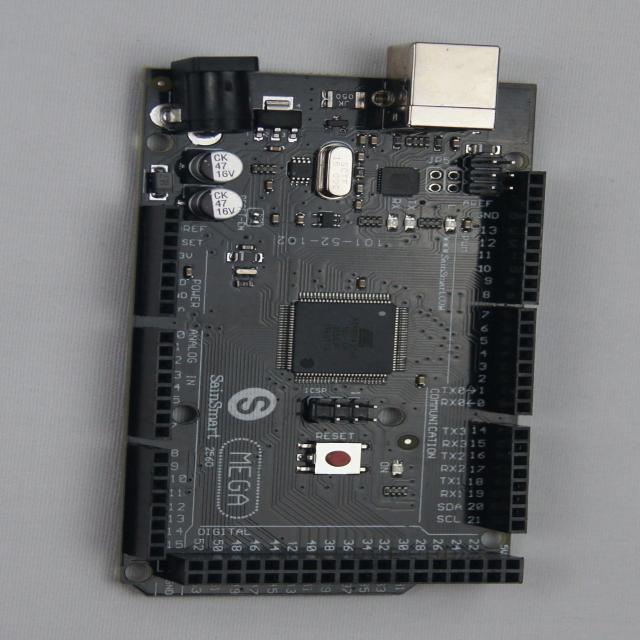Arduino Mega 2560 -Black-: (122, 44, 545, 595)
